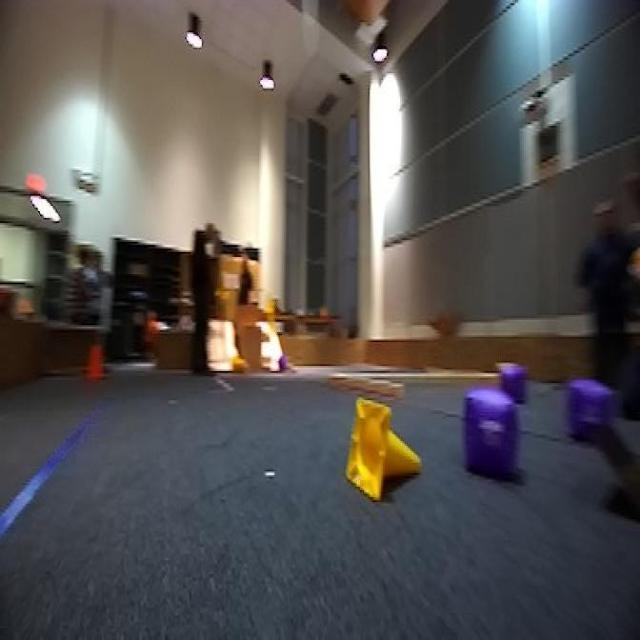frc_cone: (346, 397, 423, 502), (230, 352, 248, 377)
frc_cube: (461, 386, 516, 480), (564, 373, 610, 446), (496, 356, 528, 398), (276, 356, 290, 373)
